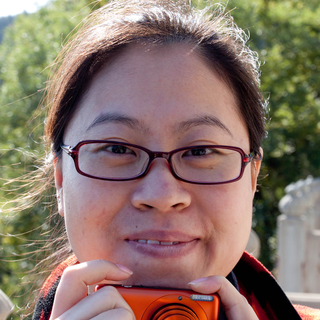eye: (176, 141, 220, 164), (94, 140, 136, 161)
